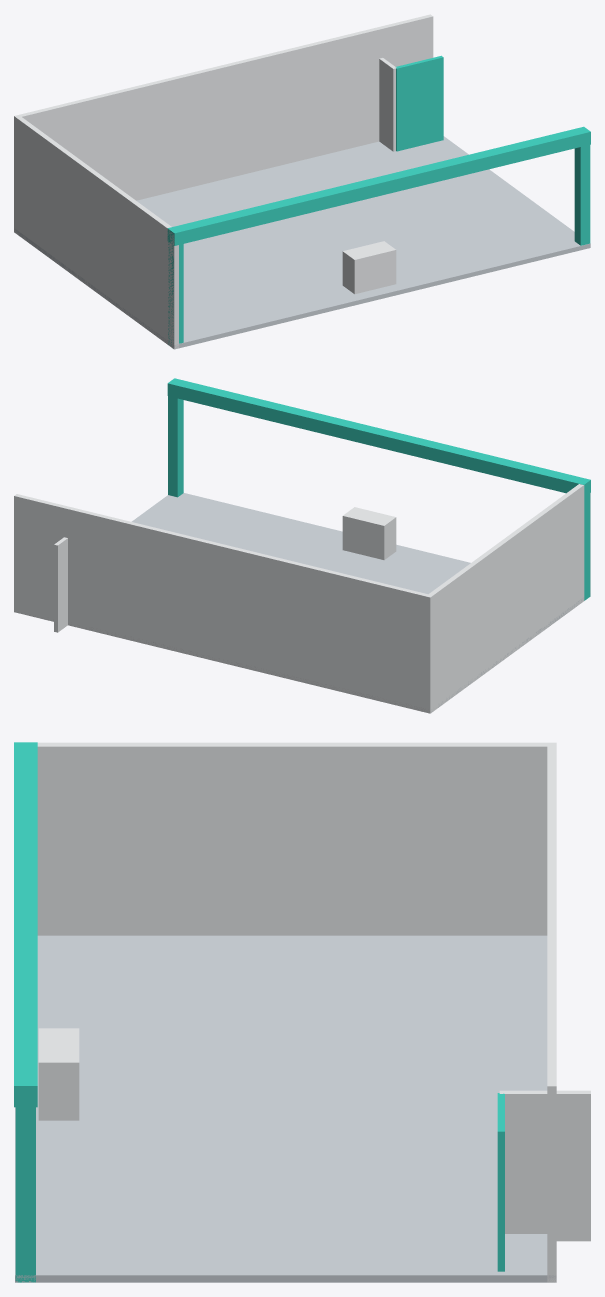
3 renders of one model, top to bottom at view 1: azimuth 30°, elevation 25°; view 2: azimuth 150°, elevation 25°; view 3: azimuth 270°, elevation 25°, orthographic. The views are drawn at different scales.
Parts seen in each view (by area): view 1: Exhibition Booth Concept; view 2: Exhibition Booth Concept; view 3: Exhibition Booth Concept.
Part boxes in pixels (x1=…): Exhibition Booth Concept: x1=14, y1=14, x2=590, y2=349; Exhibition Booth Concept: x1=14, y1=378, x2=590, y2=713; Exhibition Booth Concept: x1=14, y1=742, x2=590, y2=1282.
Size of the model in its own units: 12 by 3.2 by 8.52.
